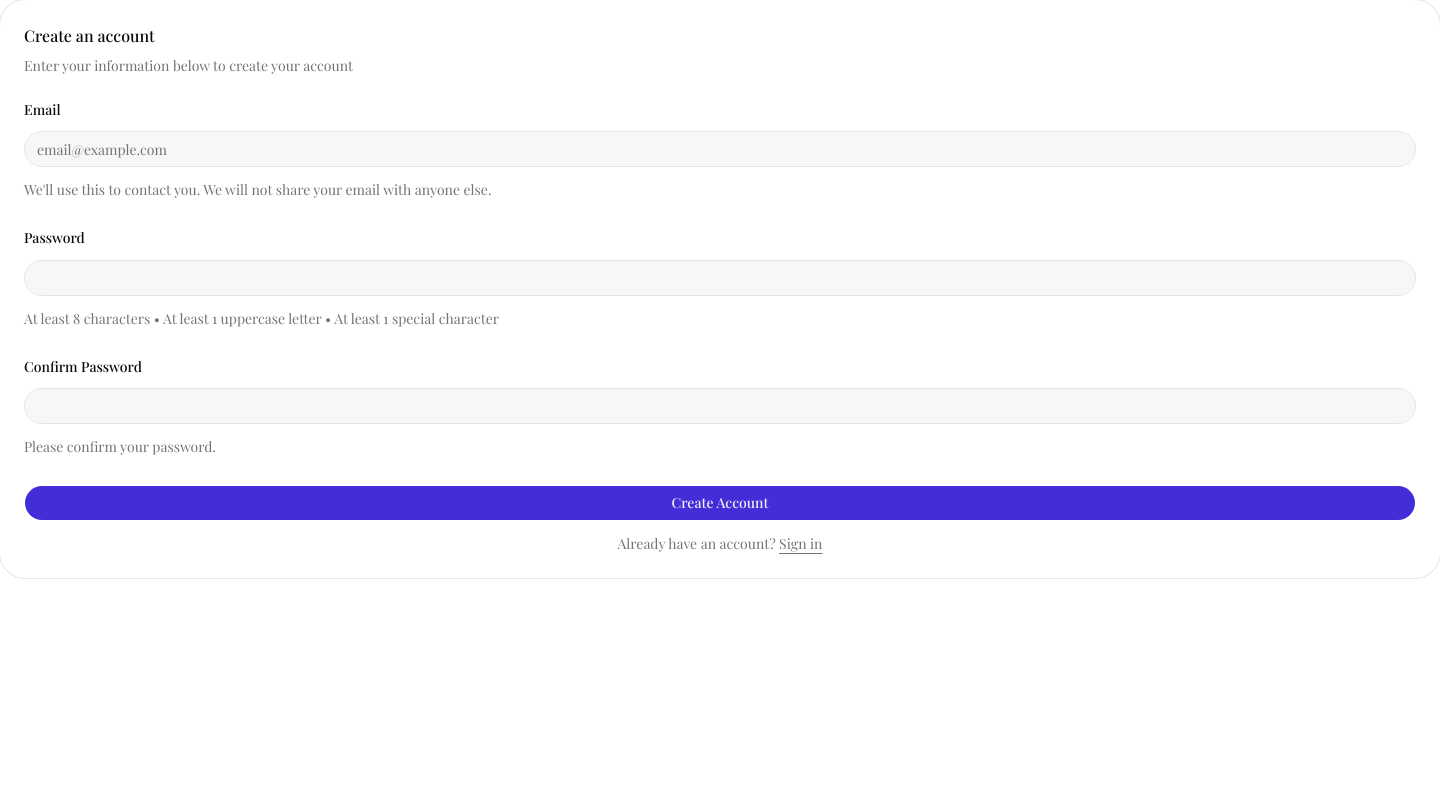
Test: SignupForm › shows error when password is too short
This screenshot has width=1440, height=810.
Type "test@example.com" into the field labelled "Email" at (720, 149), box [24, 131, 1416, 167]
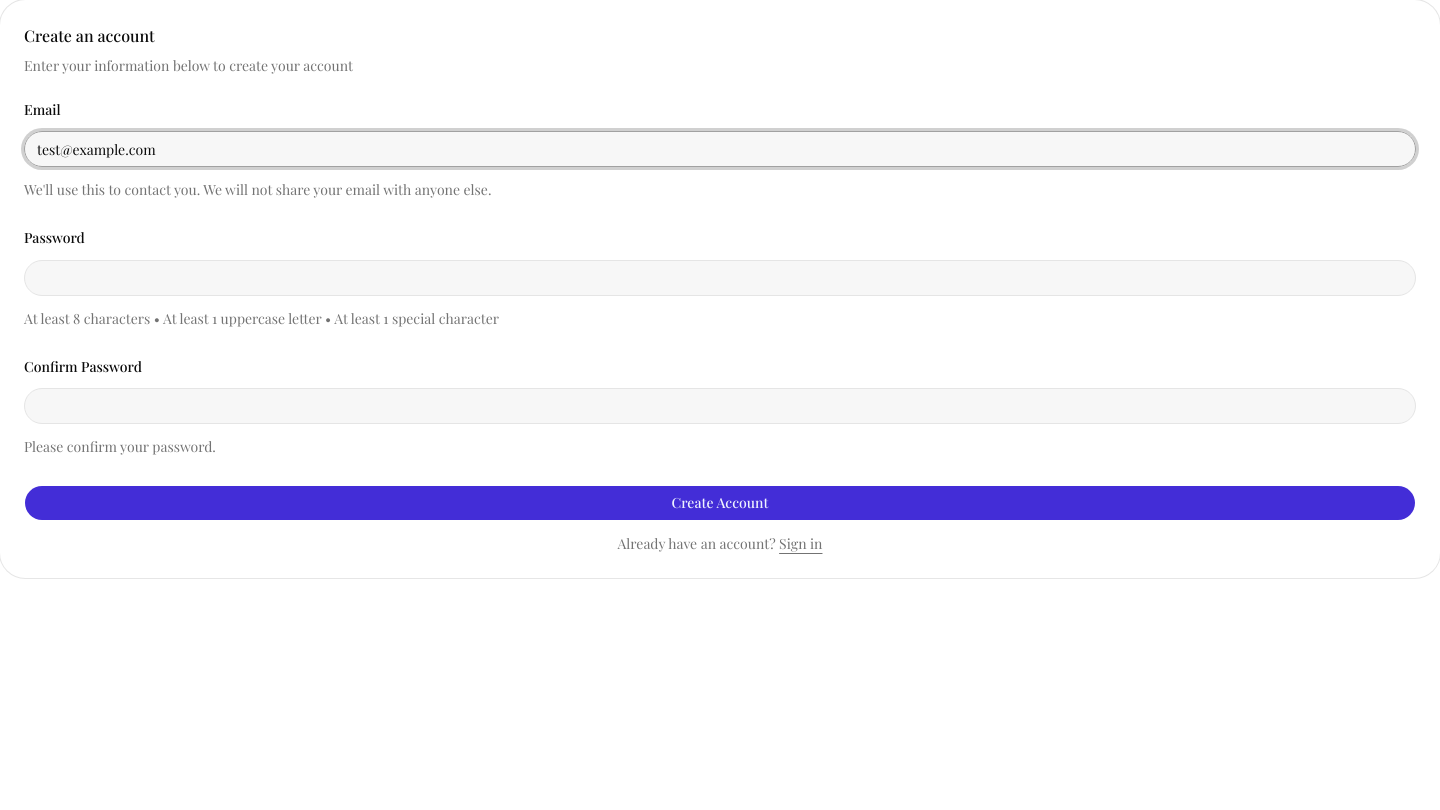
Type "Ab1!" into the password field labelled "Password" at (720, 278), box [24, 260, 1416, 296]
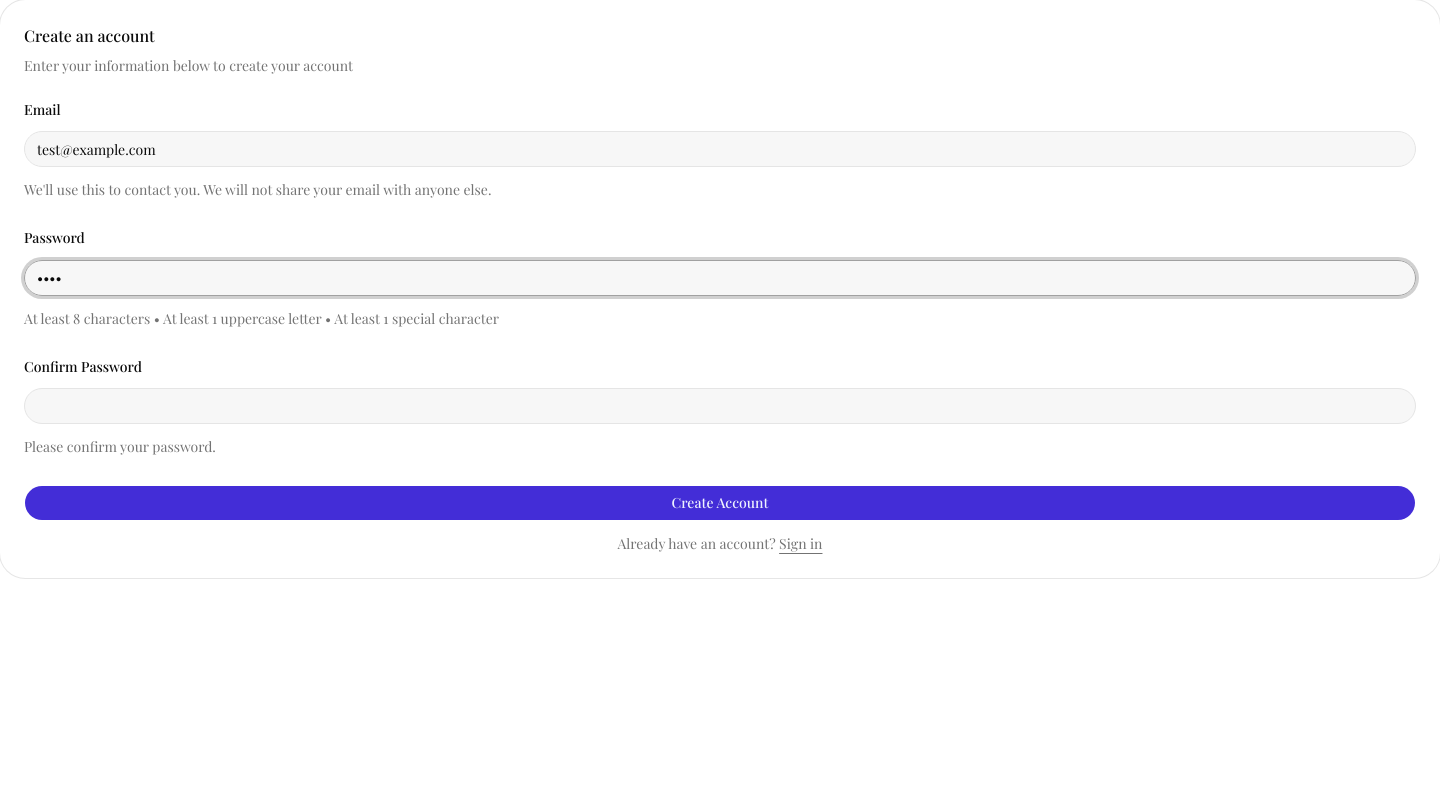
Type "Ab1!" into the password field labelled "Confirm Password" at (720, 406), box [24, 388, 1416, 424]
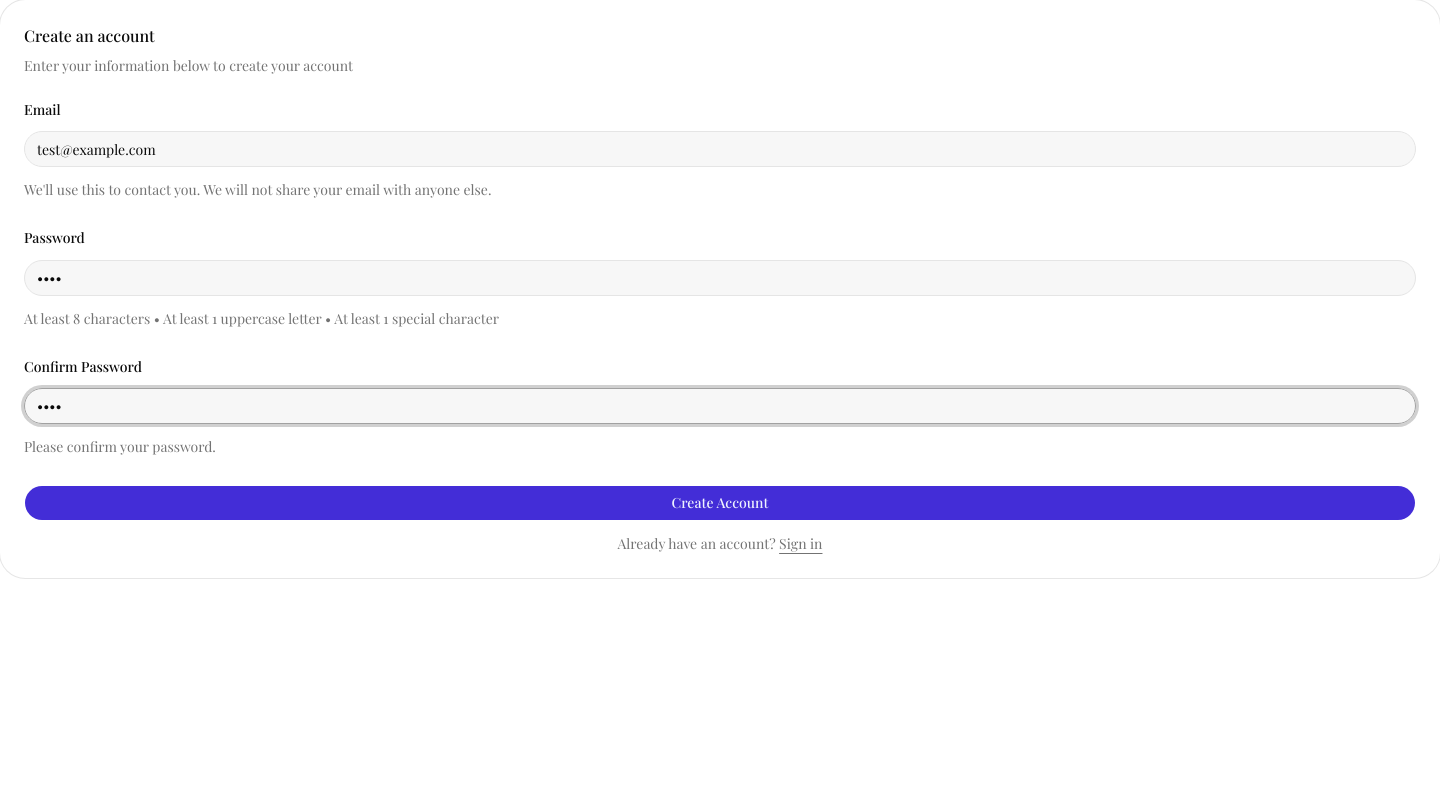
Click the button "Create Account" at (720, 503), box [24, 485, 1416, 521]
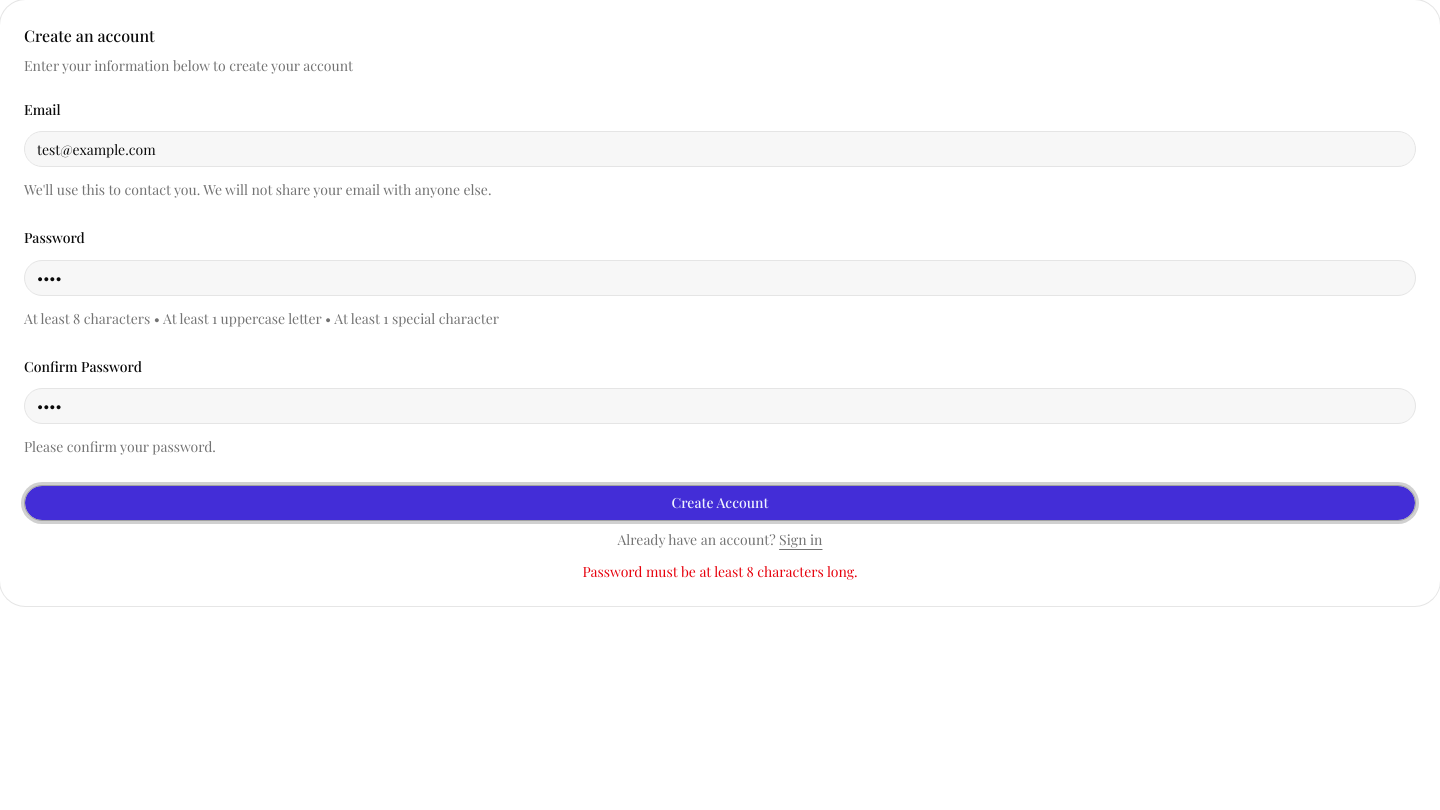
Check: the text "Password must be at least 8 characters long." is shown, box [582, 562, 858, 581]
